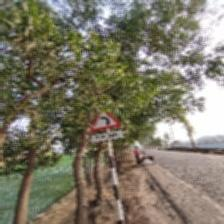Left-Turn: (87, 111, 124, 144)
